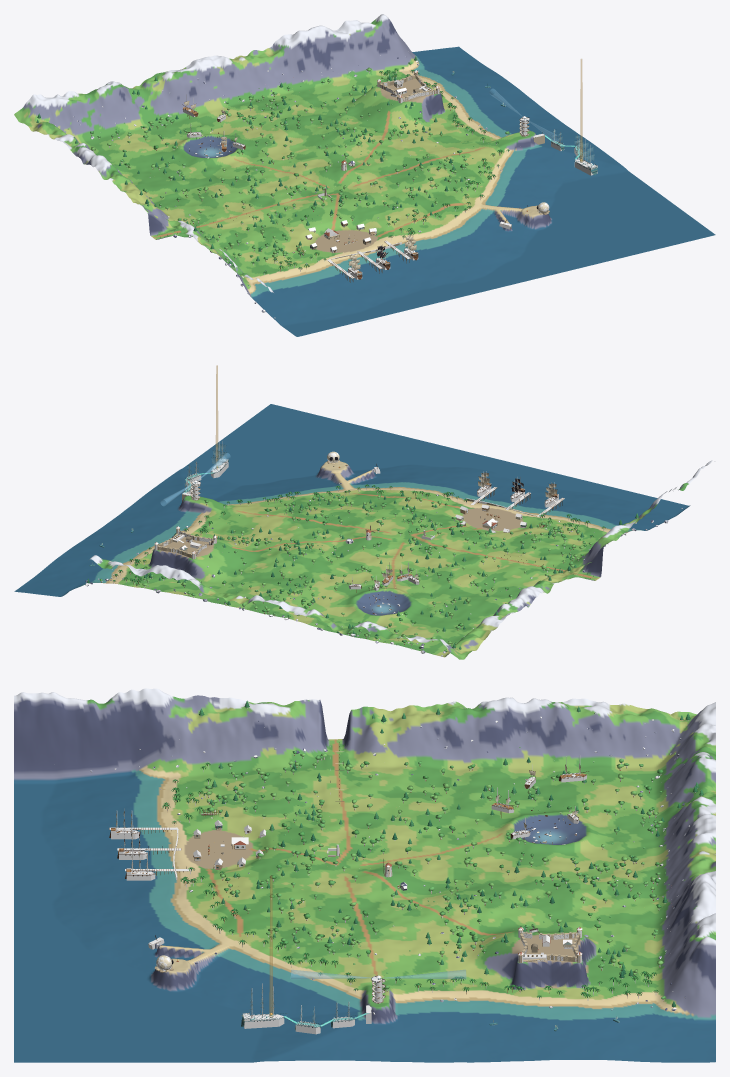
The model's file is world_blacksail.glb.
3 views of the same model, one above another, from view 1: azimuth 30°, elevation 25°; view 2: azimuth 150°, elevation 25°; view 3: azimuth 270°, elevation 25° (orthographic). The views are drawn at different scales.
Parts seen in each view (by area): view 1: Terrain, Trees_Leaves, COL_Props; view 2: Terrain, Trees_Leaves, COL_Props; view 3: Terrain, Trees_Leaves, COL_Props, Lighthouse_Beam, Nassau_Craft_Stone, Trees_Trunks.
Boxes of the visible parts, x1,y1,x2,y2 form: Terrain: (14,14,715,336); Trees_Leaves: (36,56,509,273); COL_Props: (39,55,597,318); Terrain: (14,404,715,659); Trees_Leaves: (87,484,638,651); COL_Props: (85,441,682,656); Terrain: (14,688,715,1062); Trees_Leaves: (162,700,703,1006); COL_Props: (90,707,701,1034); Lighthouse_Beam: (291,969,466,979); Nassau_Craft_Stone: (154,826,581,999); Trees_Trunks: (166,755,663,1001).
Size of what is drawn, in the model's own units: 720 by 181 by 720.
